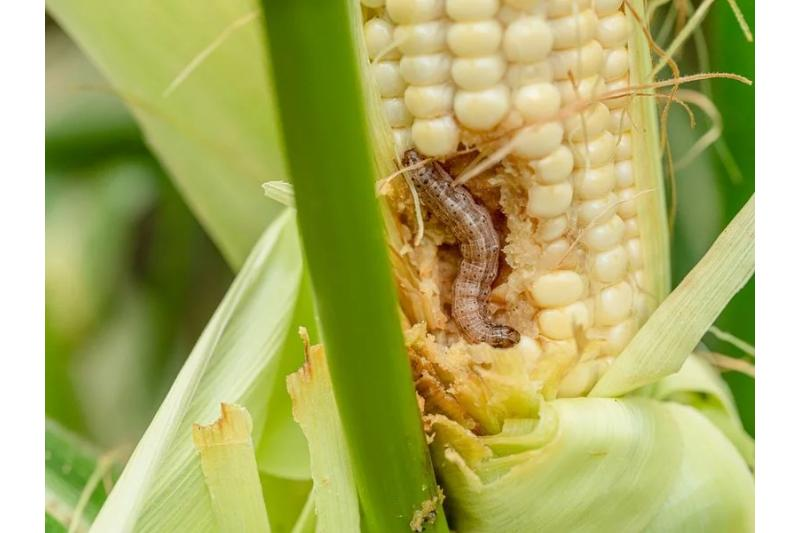fall-armyworm: (399, 149, 521, 349)
